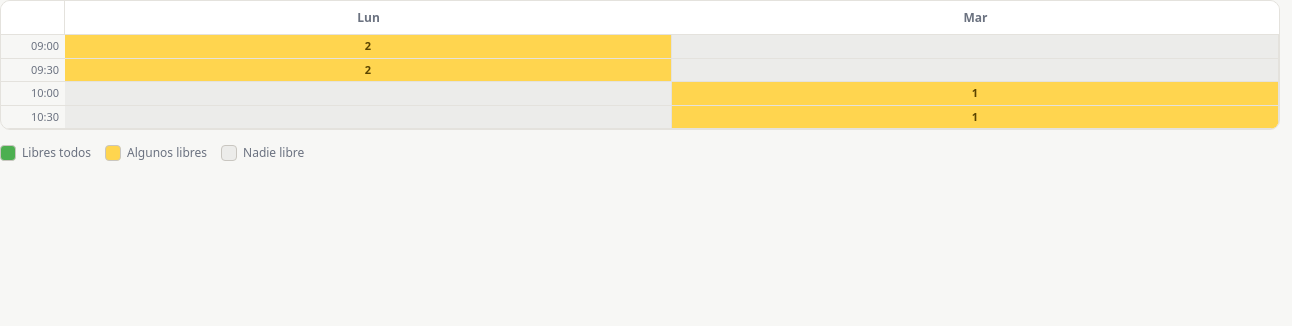
Test: ResultGrid (grilla agregada) › muestra el detalle al hacer clic en una celda
Click the button with test id "cell-partial" next to "09:00" at {"x": 368, "y": 47}, box [65,35,672,58]
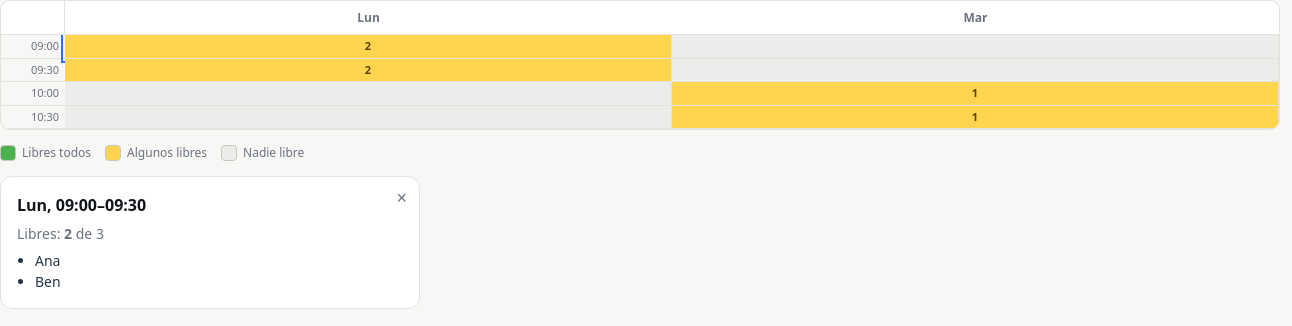
Expected: the message with test id "cell-detail" shows "Libres: 2 de 3", [0,176,420,309]
Expected: the message with test id "cell-detail" shows "Ana", [35,251,60,270]
Expected: the message with test id "cell-detail" shows "Ben", [35,272,61,291]
